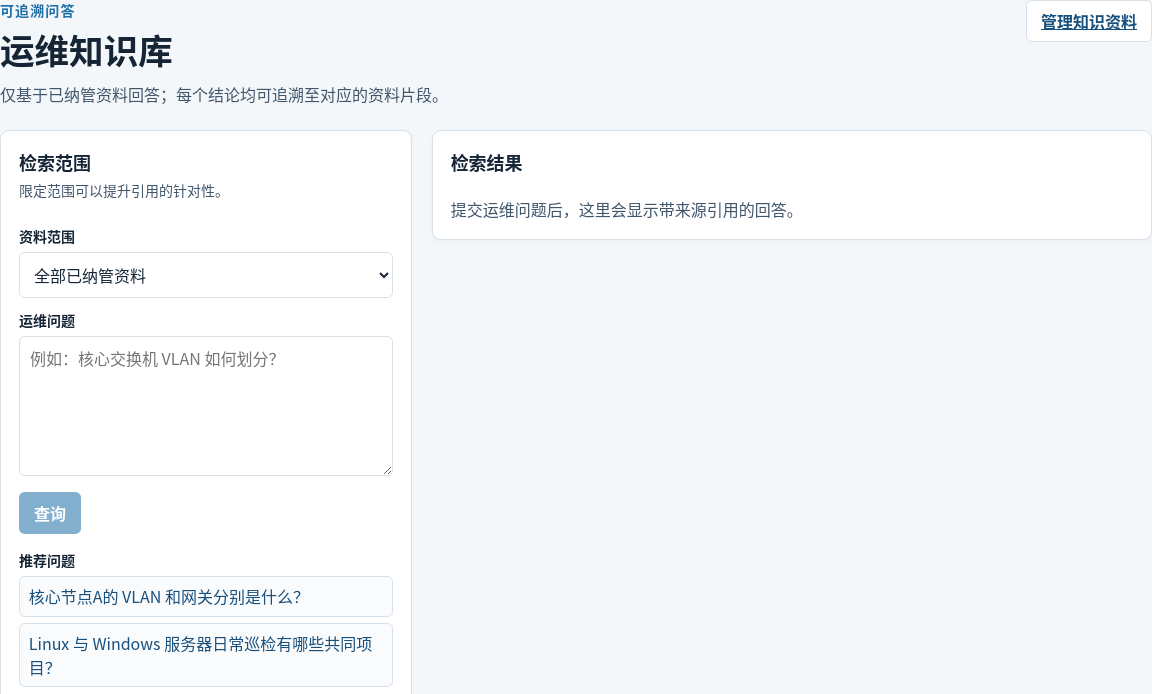
Test: renders answer deltas before the terminal done frame arrives
Type "流式展示问题" into the text box labelled "运维问题" at [206, 406], box top-left (19, 336), bottom-right (393, 476)
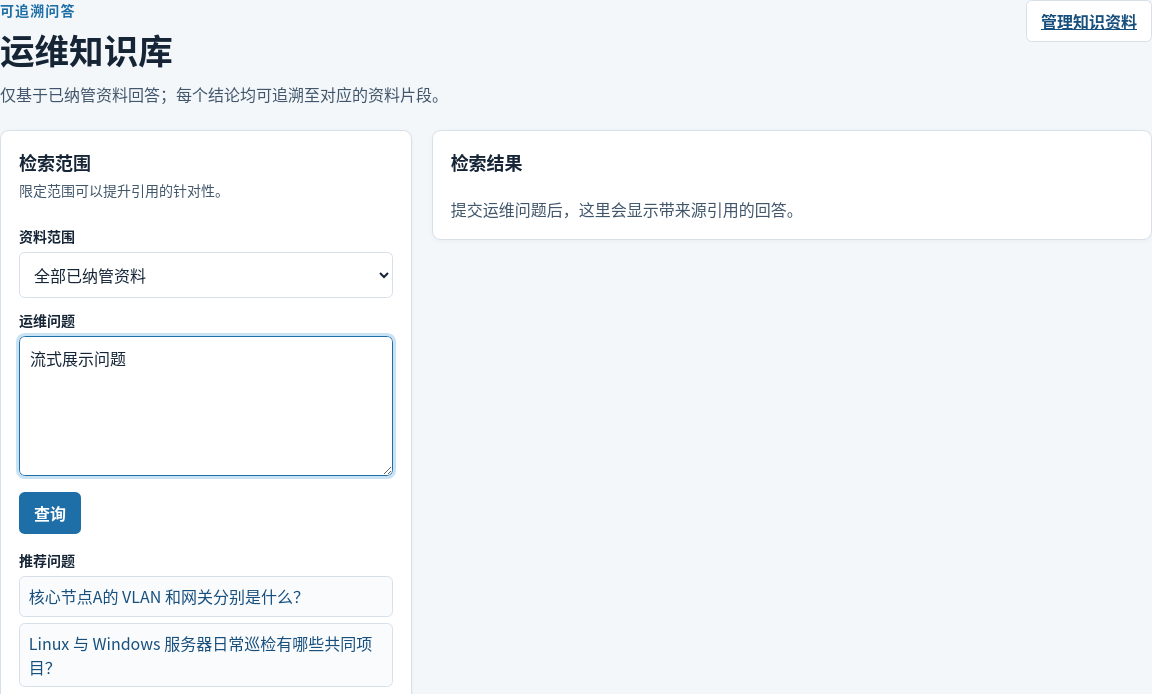
Click the button "查询" at [50, 513], box top-left (19, 492), bottom-right (81, 534)
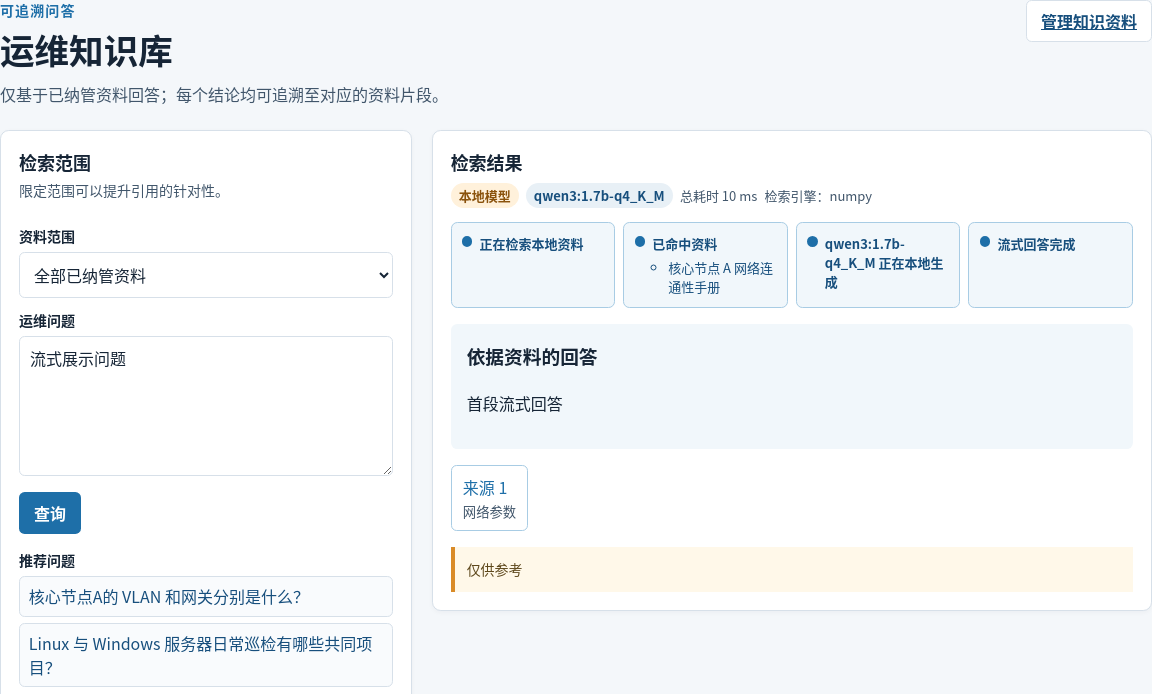
Expected: the text "首段流式回答" is shown, top-left (467, 391), bottom-right (563, 415)
Expected: the text "qwen3:1.7b-q4_K_M 正在本地生成" is shown, top-left (825, 234), bottom-right (944, 291)
Expected: the text "总耗时 10 ms" is shown, top-left (680, 186), bottom-right (757, 205)
